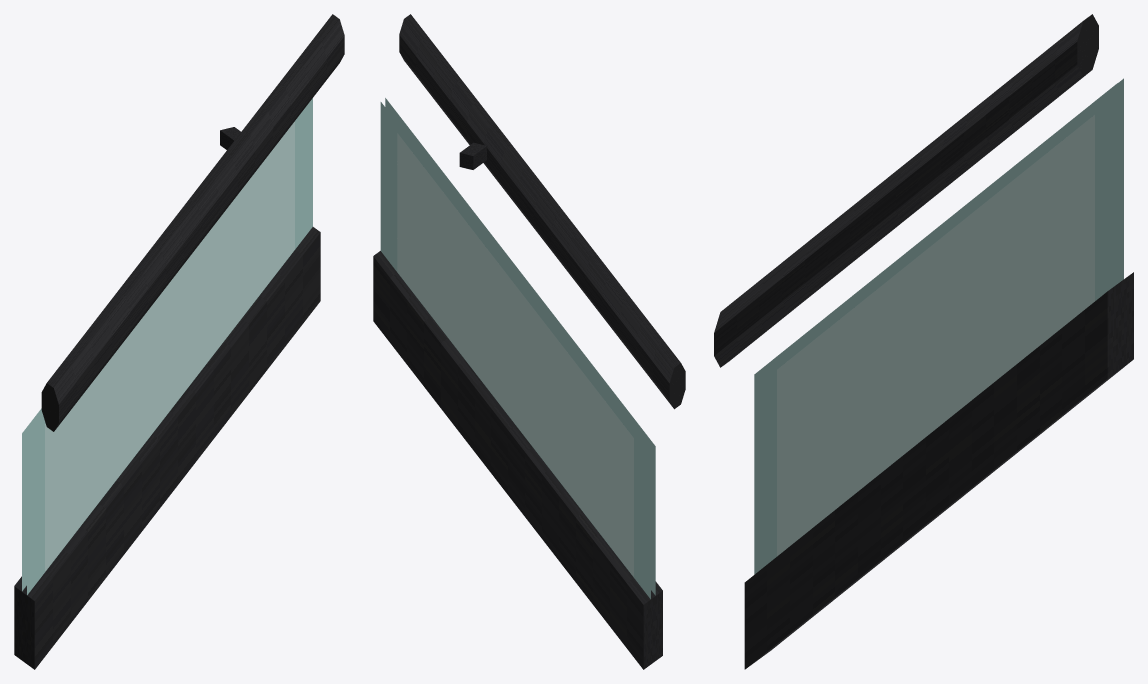
Rendered from mid_pos.obj.
3 views of the same model, side by side, from view 1: azimuth 30°, elevation 25°; view 2: azimuth 150°, elevation 25°; view 3: azimuth 330°, elevation 25° (orthographic). The views are drawn at different scales.
Visible parts, largest first — view 1: railing_glass_black_mid_pos; view 2: railing_glass_black_mid_pos; view 3: railing_glass_black_mid_pos.
Boxes of the visible parts, x1,y1,x2,y2 form: railing_glass_black_mid_pos: (14, 14, 344, 669); railing_glass_black_mid_pos: (373, 14, 685, 669); railing_glass_black_mid_pos: (714, 14, 1133, 669).
Size of the model in its own units: 1 by 1.99 by 0.2707.
